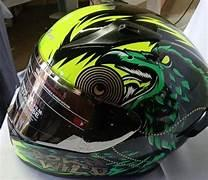Helmet: (8, 0, 207, 180)
